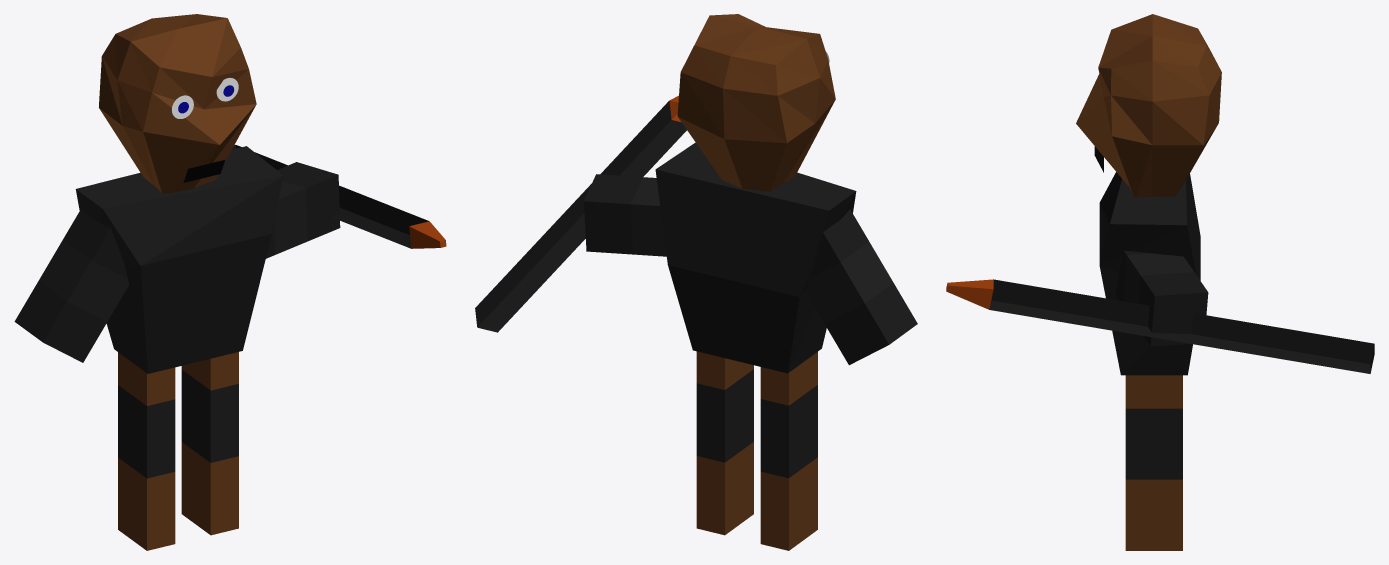
Rendered from spearman2f.obj.
The picture shows the model from 3 angles, left to right: view 1: azimuth 30°, elevation 25°; view 2: azimuth 150°, elevation 25°; view 3: azimuth 270°, elevation 25°; orthographic projection.
Visible parts, largest first — view 1: Cube.001, Cube, Cube.004, Cube.005, Cube.003, Cube.002, Cube.007, Plane; view 2: Cube.001, Cube, Cube.004, Cube.005, Cube.003, Cube.007, Cube.002; view 3: Cube, Cube.007, Cube.005, Cube.001, Cube.002.
Part boxes in pixels (x1,y1,x2,y2): Cube.001: (75, 146, 283, 373); Cube: (99, 14, 256, 193); Cube.004: (118, 352, 175, 550); Cube.005: (181, 352, 238, 535); Cube.003: (14, 209, 129, 362); Cube.002: (266, 162, 340, 258); Cube.007: (232, 144, 446, 248); Plane: (183, 160, 225, 182); Cube.001: (655, 142, 856, 373); Cube: (677, 14, 835, 191); Cube.004: (760, 352, 817, 550); Cube.005: (696, 351, 753, 535); Cube.003: (806, 209, 917, 365); Cube.007: (475, 95, 686, 332); Cube.002: (584, 174, 666, 256); Cube: (1076, 14, 1221, 197); Cube.007: (946, 279, 1374, 373); Cube.005: (1125, 375, 1182, 550); Cube.001: (1099, 172, 1200, 375); Cube.002: (1115, 250, 1208, 346).
Size of the model in its own units: 3.88 by 5.86 by 4.62.
